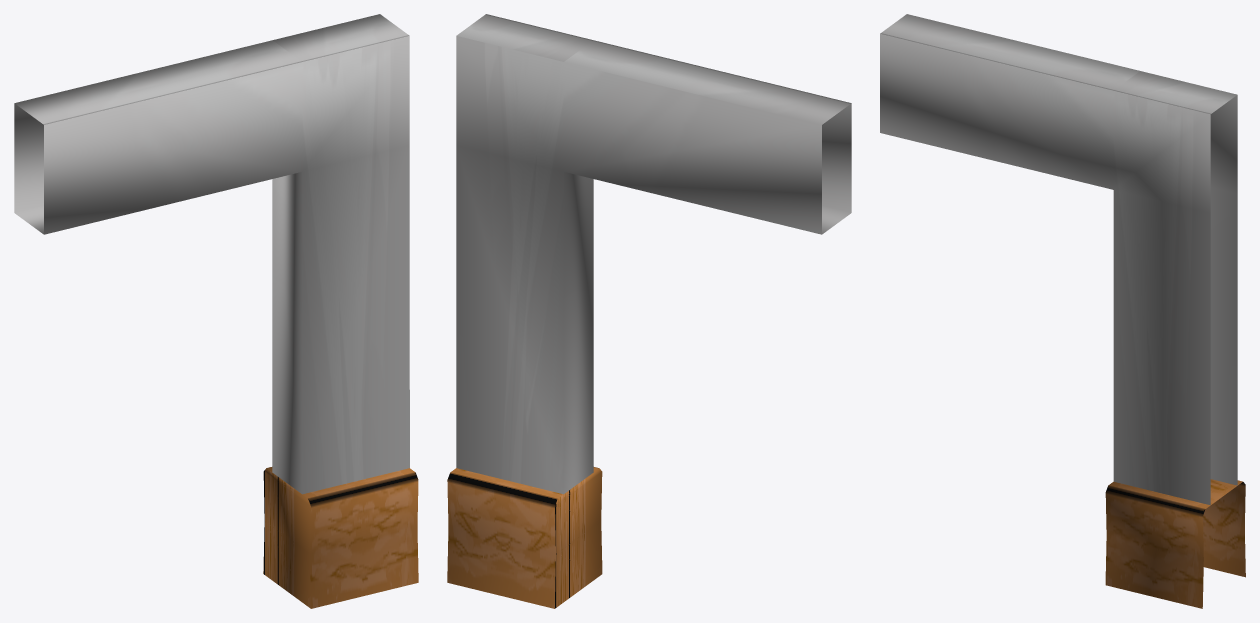
The model's file is GroundModuleMetalDoor_Small.fbx.
3 views of the same model, side by side, from view 1: azimuth 30°, elevation 25°; view 2: azimuth 150°, elevation 25°; view 3: azimuth 330°, elevation 25° (orthographic). The views are drawn at different scales.
Parts seen in each view (by area): view 1: GroundModuleMetalDoor_Small; view 2: GroundModuleMetalDoor_Small; view 3: GroundModuleMetalDoor_Small.
Part boxes in pixels (x1,y1,x2,y2): GroundModuleMetalDoor_Small: (14, 14, 418, 608); GroundModuleMetalDoor_Small: (447, 14, 851, 608); GroundModuleMetalDoor_Small: (880, 14, 1245, 608).
Bounding box in the file's own units: 3.54 × 5 × 0.8.
